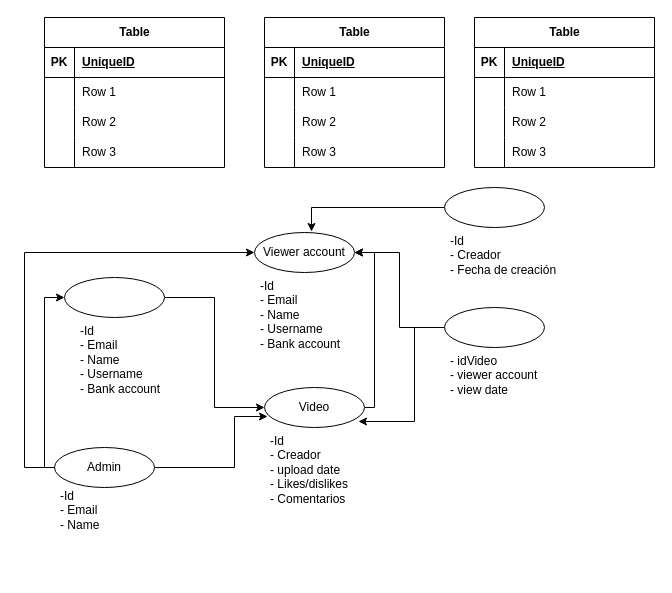
Image size: 672x593. Some labels were removed from this diagram. The box of each missing label's shape, as (x1, y1, x2, y2) in pixels:
list: (444, 186, 544, 228)
record: (444, 306, 544, 348)
Youtuber Account: (64, 276, 164, 318)
